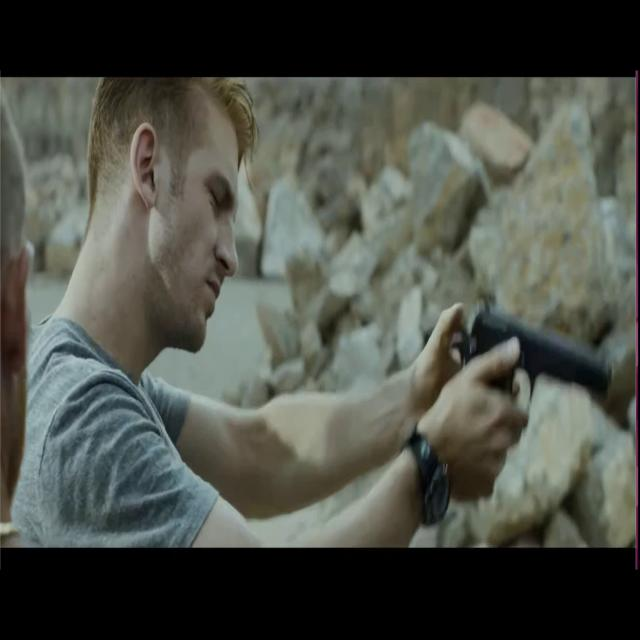weapons: (440, 283, 618, 451)
